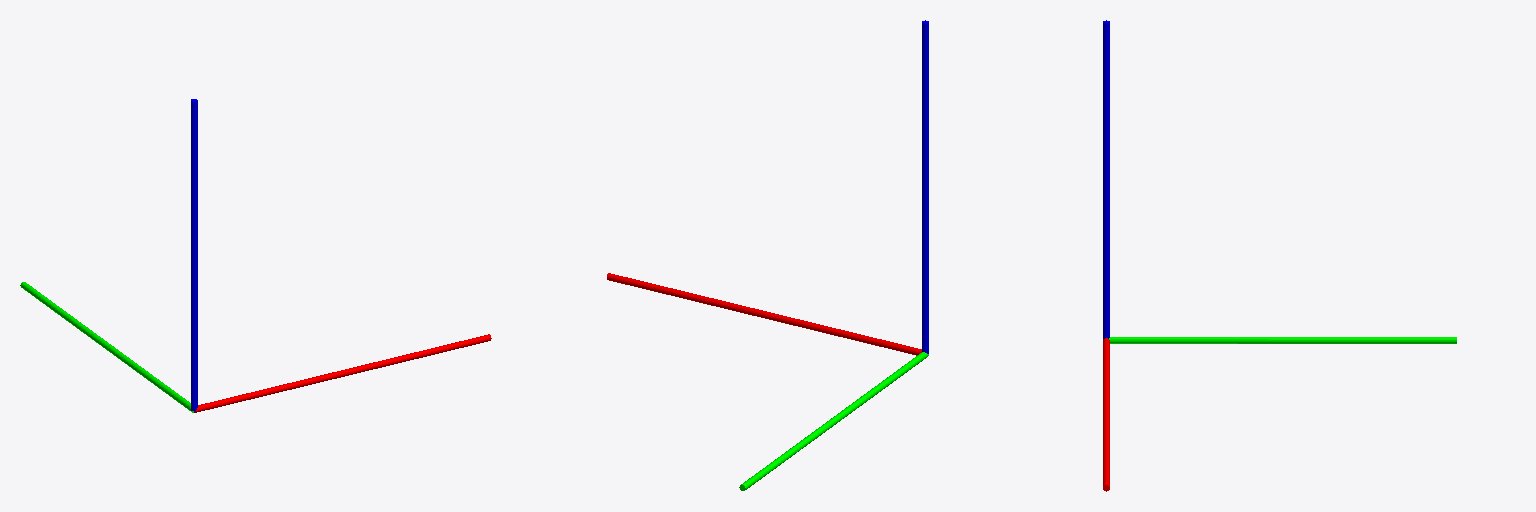
robot.urdf — axis:
<?xml version="1.0" ?>
<robot name="axis">
    <link name="axis">
        <visual name="x_axis">
            <geometry>
                <cylinder length="0.5" radius="0.005"/>
            </geometry>
            <origin xyz="0.25 0 0" rpy="0 1.5707 0"/> <!-- Rotate 90 degrees around Z -->
            <material name="red">
                <color rgba="1 0 0 1"/> <!-- Red Color -->
            </material>
        </visual>

        <!-- Green Arrow for Y-axis -->
        <visual name="z_axis">
            <geometry>
                <cylinder length="0.5" radius="0.005"/>
            </geometry>
            <origin xyz="0 0 0.25" rpy="0 0 1.5707"/> <!-- Rotate -90 degrees around Y -->
            <material name="blue">
                <color rgba="0 0 1 1"/> <!-- Green Color -->
            </material>
        </visual>

        <!-- Blue Arrow for Z-axis -->
        <visual name="y_axis">
            <geometry>
                <cylinder length="0.5" radius="0.005"/>
            </geometry>
            <origin xyz="0 0.25 0" rpy="1.5707 0 0"/> <!-- No rotation needed -->
            <material name="green">
                <color rgba="0 1 0 1"/> <!-- Blue Color -->
            </material>
        </visual>
    </link>
</robot>

--- Facts derived from the render (not from the file) ---
Views: 3 orthographic renders of the robot side by side, from view 1: azimuth 30°, elevation 25°; view 2: azimuth 150°, elevation 25°; view 3: azimuth 270°, elevation 25°.
Model axis with 1 links and 0 joints (none), rooted at axis, posed all joints at 0.
Visible links, largest first — view 1: axis; view 2: axis; view 3: axis.
Link boxes in pixels (bbox=[...]): axis: bbox=[20, 99, 491, 412]; axis: bbox=[607, 20, 928, 490]; axis: bbox=[1103, 20, 1456, 491].
Size in the robot's own frame: 0.505 by 0.505 by 0.505 metres.
Geometry: primitives only (box / cylinder / sphere), no mesh files.
